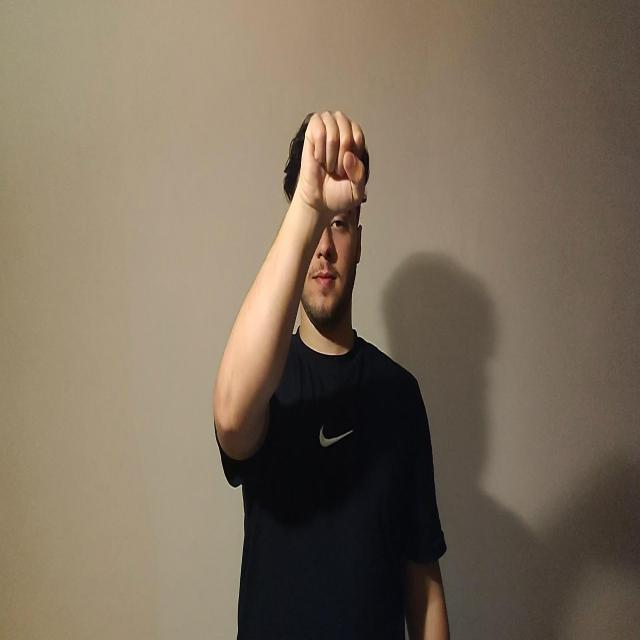yes: (298, 108, 369, 214)
